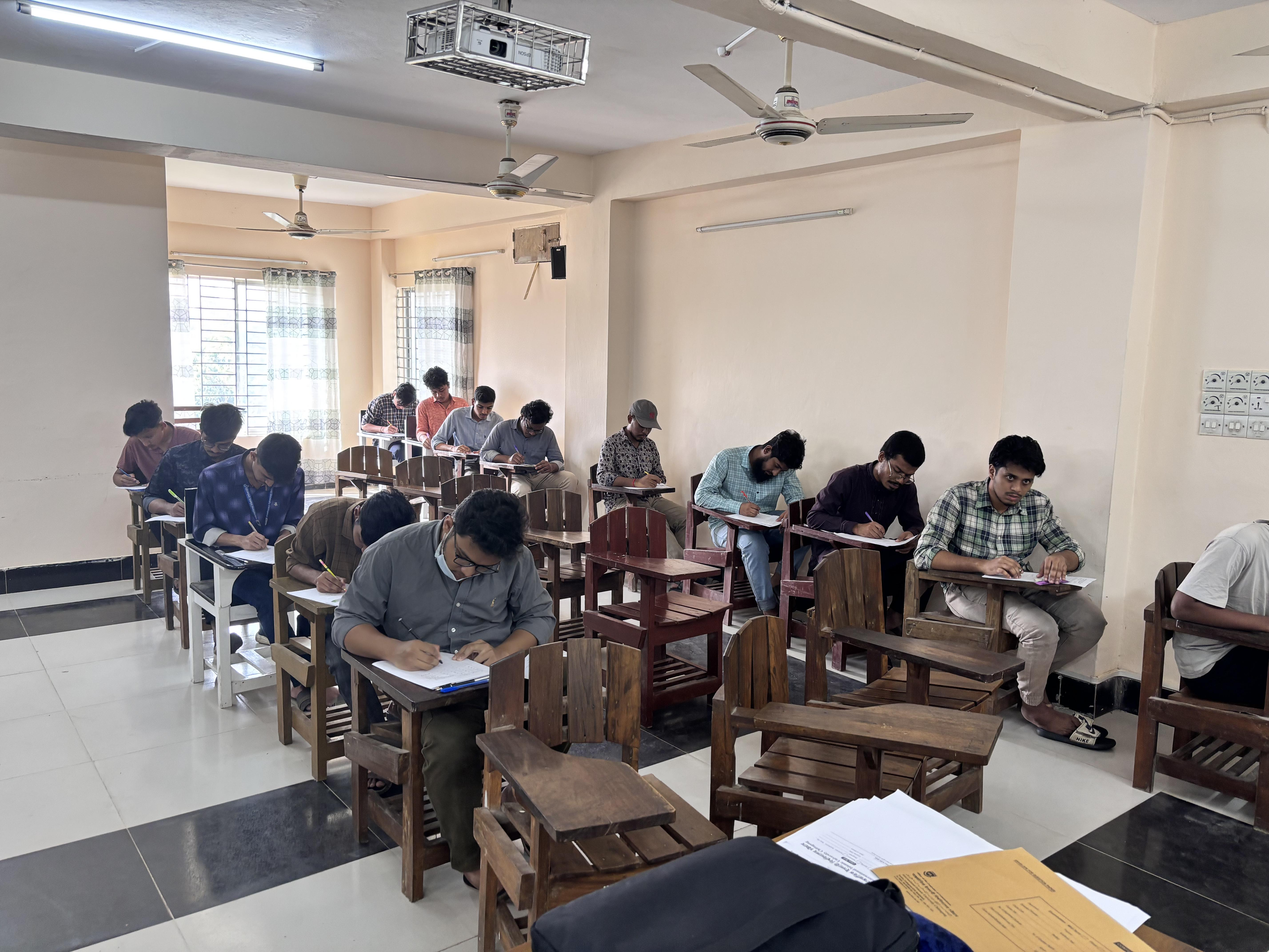no_cheating: (379, 483, 547, 708), (935, 426, 1086, 622), (291, 479, 430, 613), (210, 434, 314, 572), (831, 428, 932, 569), (719, 426, 810, 547), (164, 403, 248, 526), (591, 397, 681, 509), (112, 401, 187, 500), (489, 397, 568, 480), (360, 372, 425, 446), (414, 366, 464, 453), (444, 386, 501, 462)
